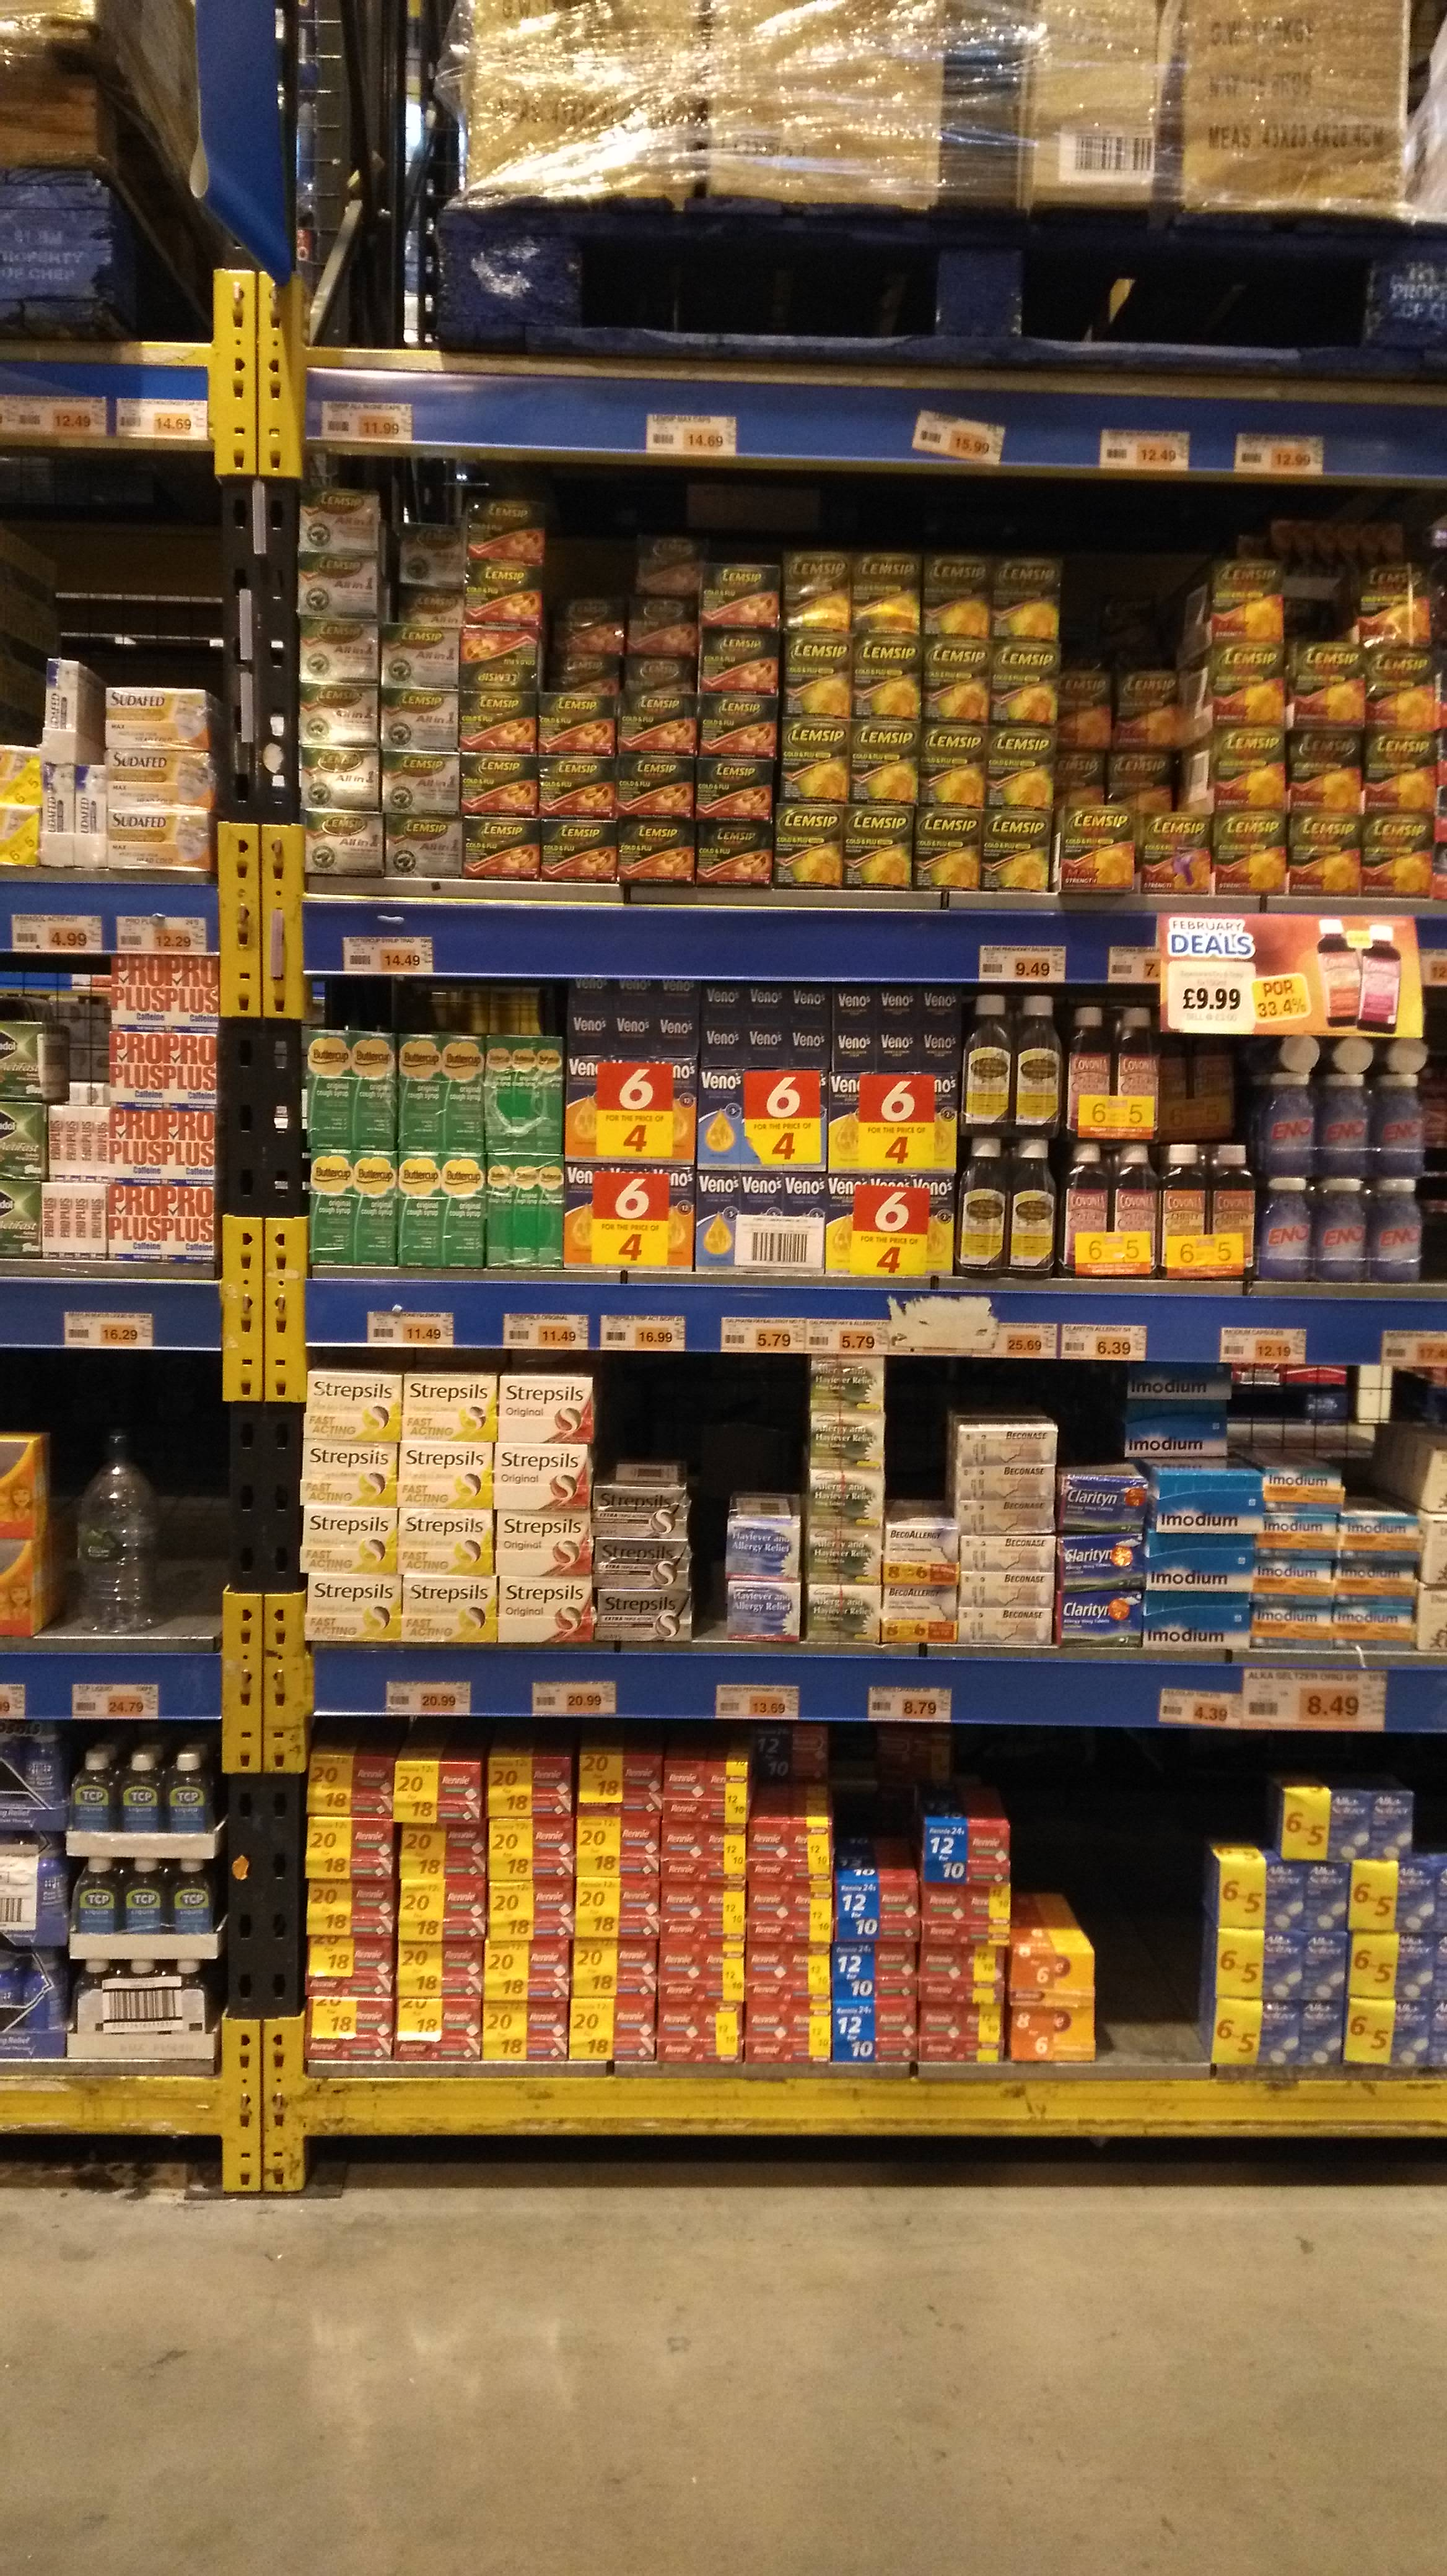Misplacement: (1054, 649, 1210, 812)
Out-of-stock: (1095, 1734, 1201, 2061)
